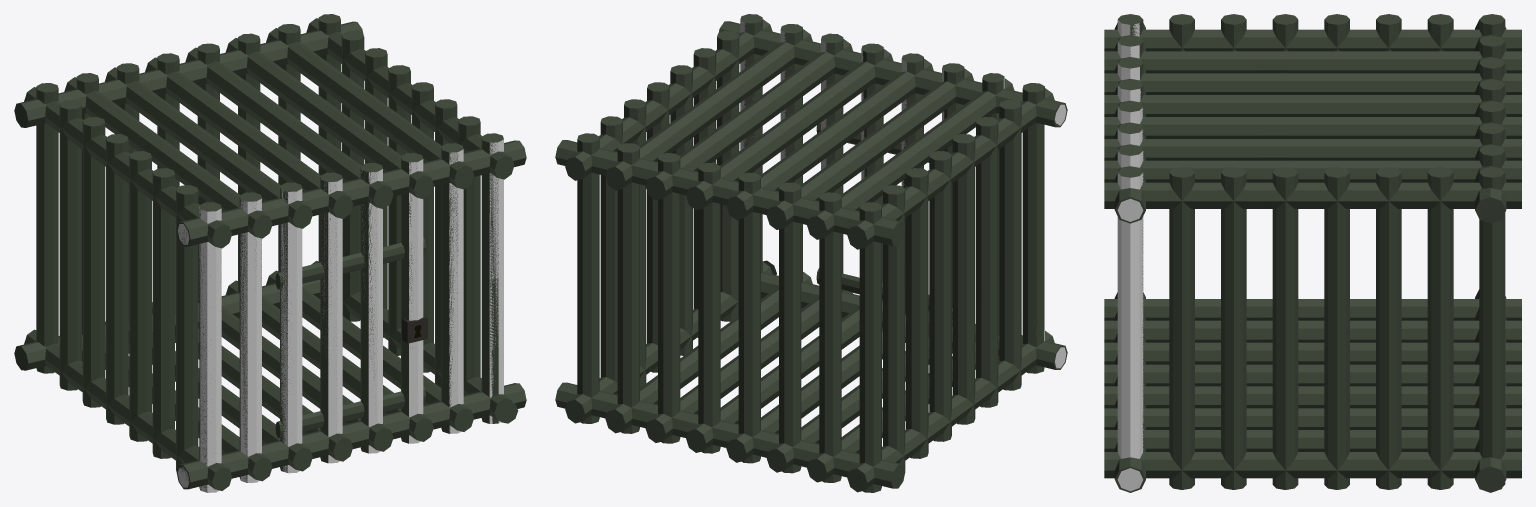
The model's file is bamboo cage1.fbx.
The picture shows the model from 3 angles, left to right: view 1: azimuth 30°, elevation 25°; view 2: azimuth 150°, elevation 25°; view 3: azimuth 270°, elevation 25°; orthographic projection. The views are drawn at different scales.
Visible parts, largest first — view 1: Cylinder.002, Cylinder; view 2: Cylinder.002, Cylinder; view 3: Cylinder.002, Cylinder, Cylinder.001.
Boxes of the visible parts, x1,y1,x2,y2 form: Cylinder.002: [14, 14, 526, 492]; Cylinder: [199, 139, 503, 492]; Cylinder.002: [555, 14, 1067, 492]; Cylinder: [740, 20, 1044, 369]; Cylinder.002: [1104, 14, 1521, 492]; Cylinder: [1117, 20, 1143, 458]; Cylinder.001: [1117, 198, 1143, 491].
Size of the model in its own units: 1000 by 800 by 989.
1 material, 1 textured.
